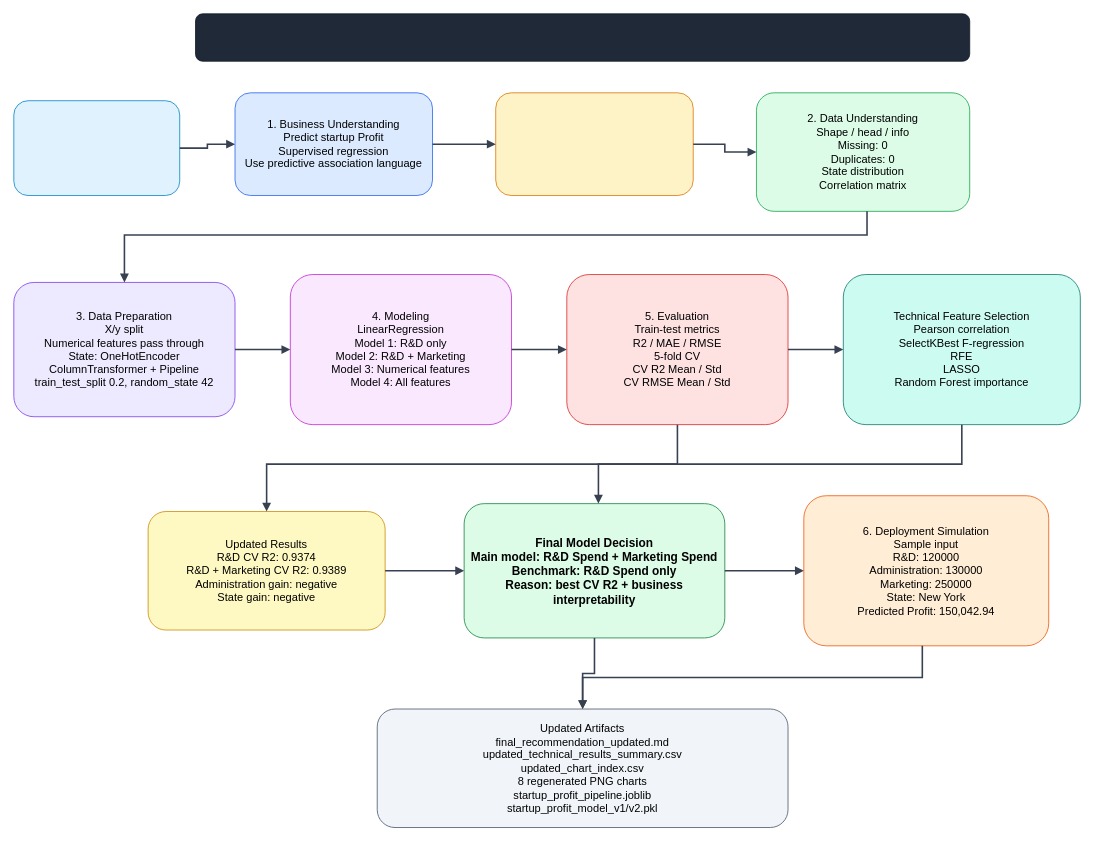
Some shapes in this 1094 by 841 pixel diagram are drawn without their labels. Each missing label, with the centre of its shape:
"Dataset 50_Startups_dataset.csv Rows: 50 Target: Profit" goes at [96,148].
"Expert Panel Marketing Expert Top CEO Governor / Policy Expert R&D Expert" goes at [594,144].
"Kaggle 50 Startups CRISP-DM Complete Workflow" goes at [582,37].
